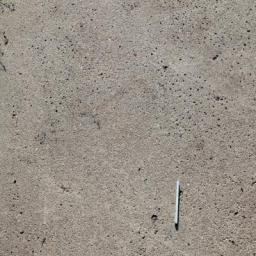FOD: (170, 176, 186, 233)
